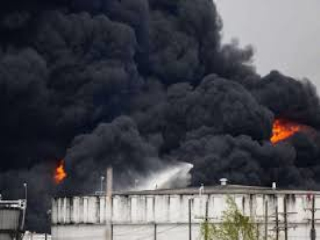fire: (267, 116, 299, 145), (50, 160, 69, 185)
smoke: (25, 9, 298, 182)
